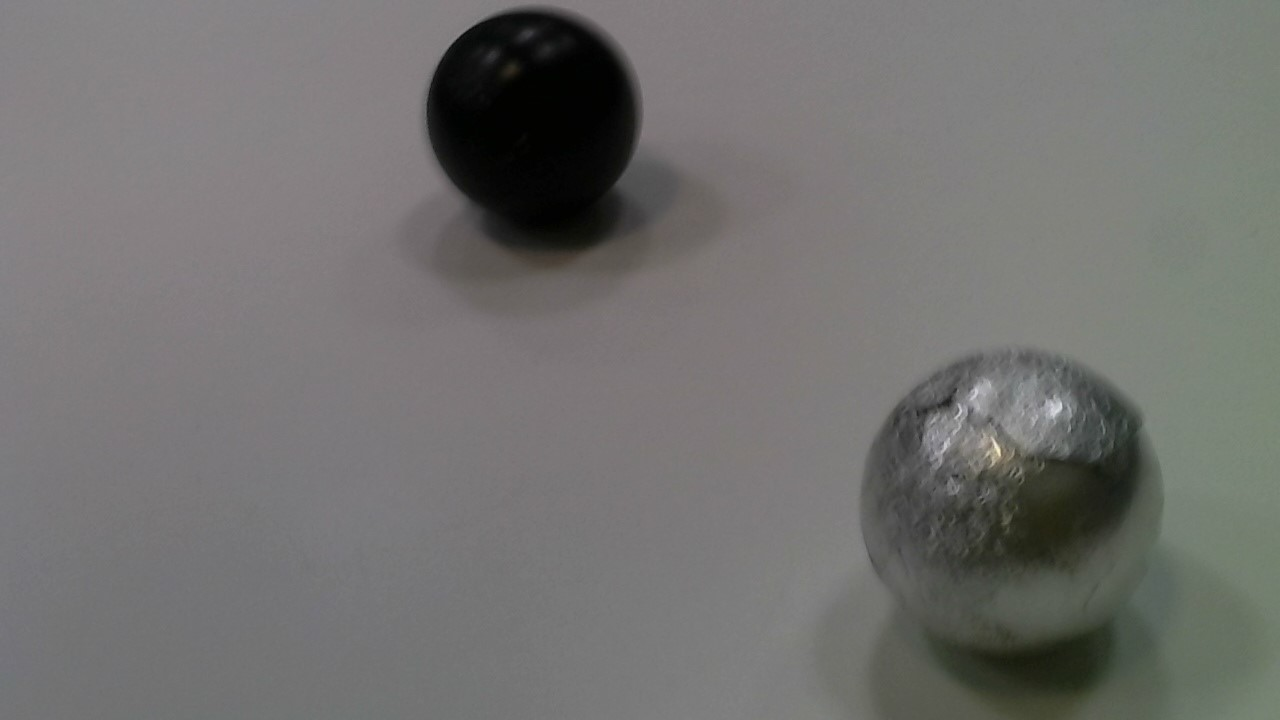black_ball: (425, 2, 650, 228)
silver_ball: (856, 343, 1171, 669)
